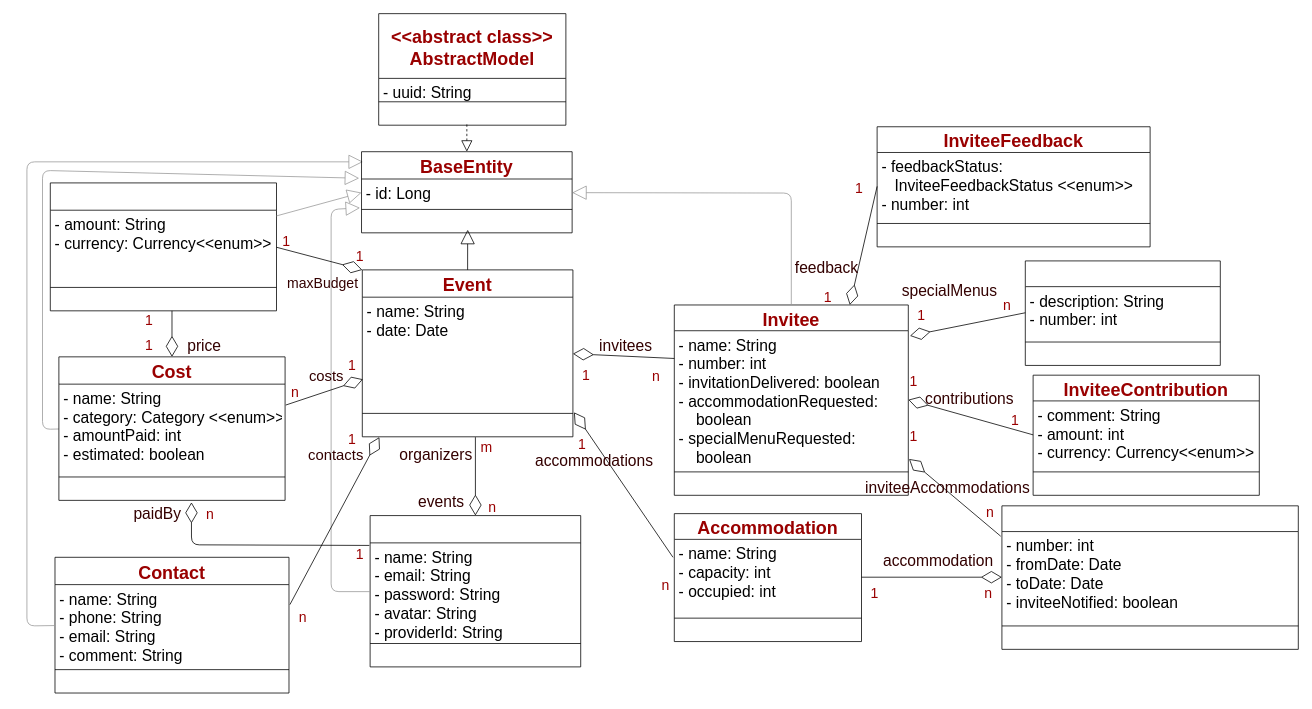
Some shapes in this 1312 by 709 pixel diagram are drawn without their labels. Each missing label, with the box of its shape:
InviteeAccommodation: (1001, 505, 1298, 649)
Money: (50, 182, 277, 311)
SpecialMenu: (1025, 260, 1220, 365)
User: (369, 515, 581, 667)
